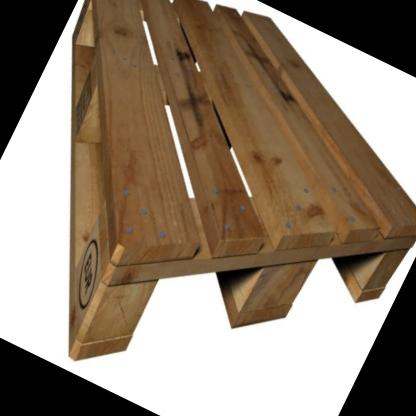BoxFace: (66, 0, 416, 368)
